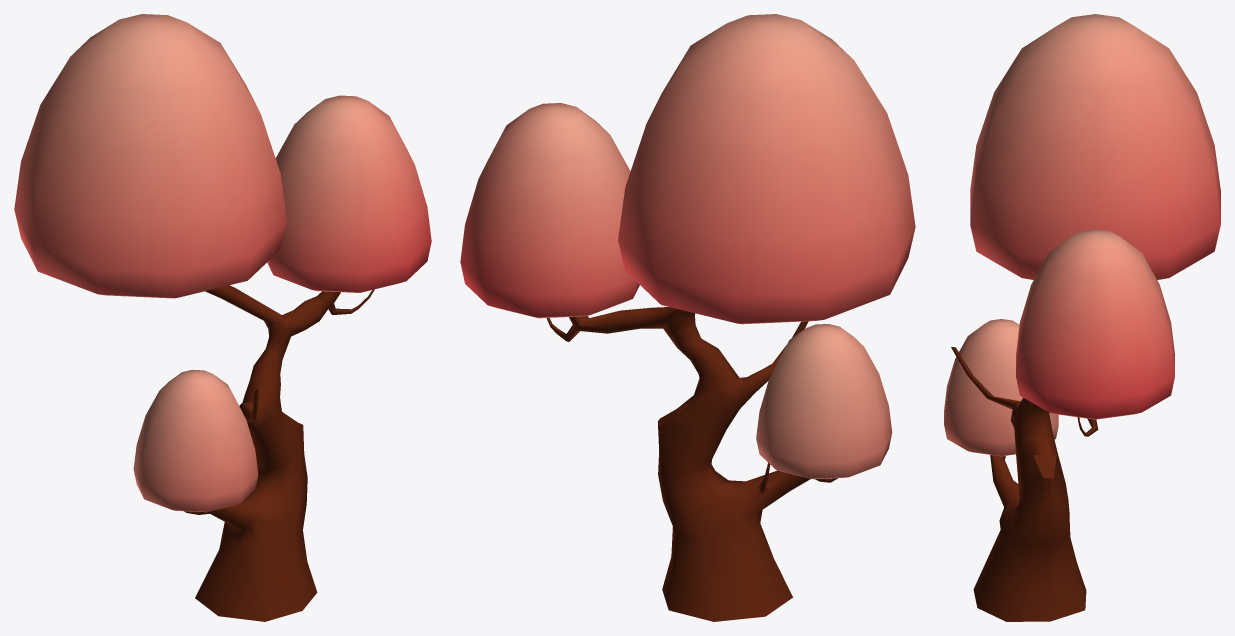
Rendered from SM_Tree_38.fbx.
3 views of the same model, side by side, from view 1: azimuth 30°, elevation 25°; view 2: azimuth 150°, elevation 25°; view 3: azimuth 270°, elevation 25° (orthographic). The views are drawn at different scales.
Visible parts, largest first — view 1: SM_Tree_38; view 2: SM_Tree_38; view 3: SM_Tree_38.
Part boxes in pixels (box(x1,y1,x2,y2)): SM_Tree_38: box(14, 14, 431, 621); SM_Tree_38: box(460, 14, 915, 621); SM_Tree_38: box(944, 14, 1220, 621).
Size of the model in its own units: 906 by 1255 by 581.
